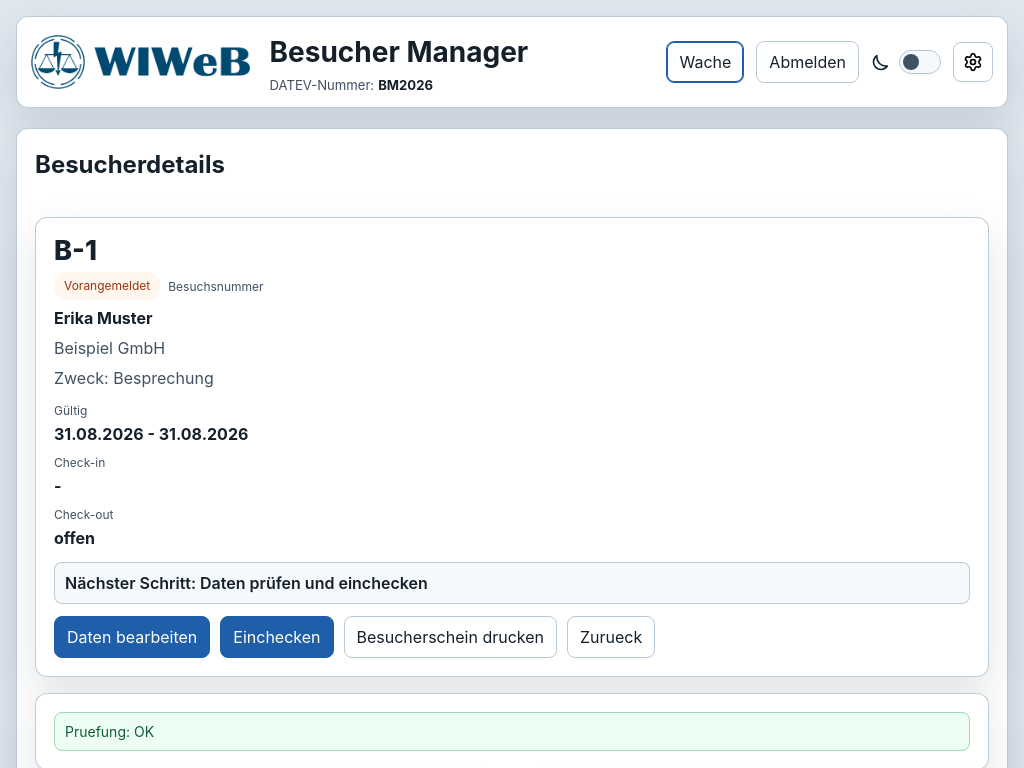
Test: guard visit editing › normalizes nullable optional data and saves fully completed required data
This screenshot has width=1024, height=768.
Click the button "Daten bearbeiten" at (132, 637), box [54,616,210,658]
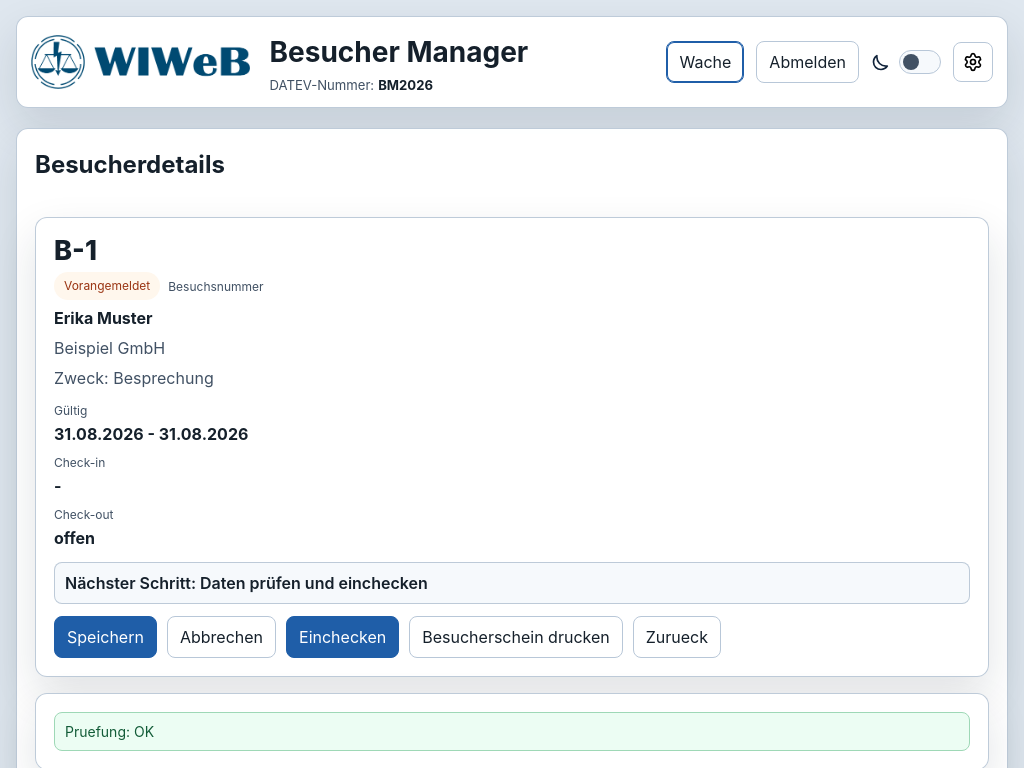
Click the button "Speichern" at (105, 637), box [54,616,157,658]
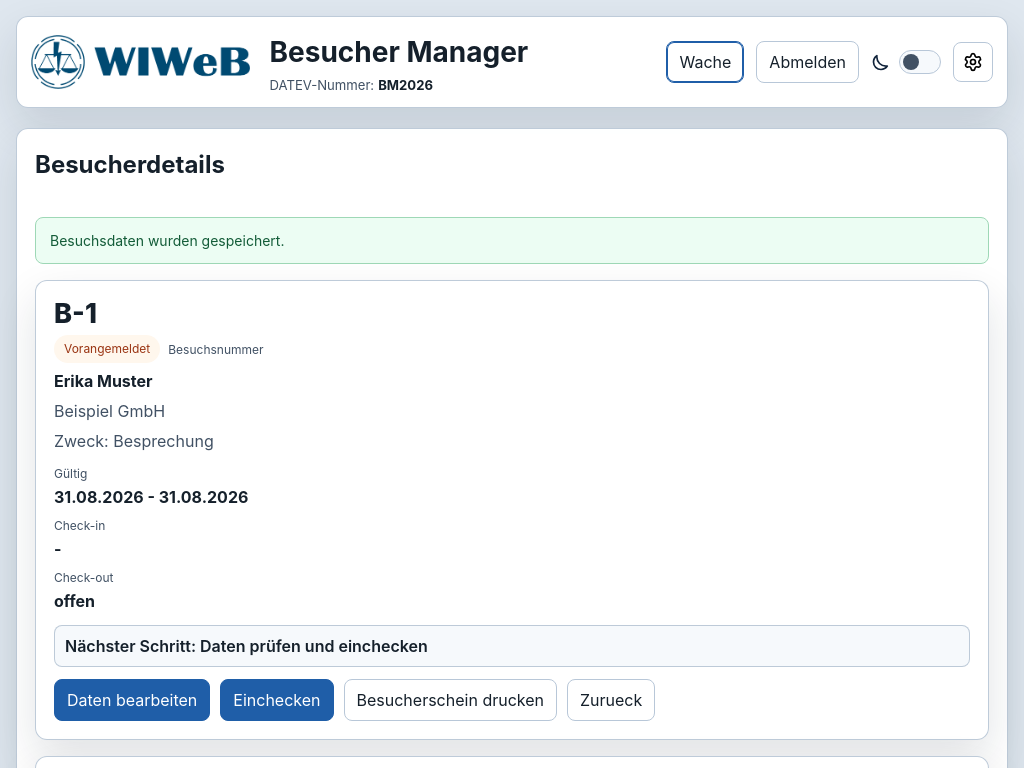
Expected: the text "Besuchsdaten wurden gespeichert." is shown, [35,217,989,264]
